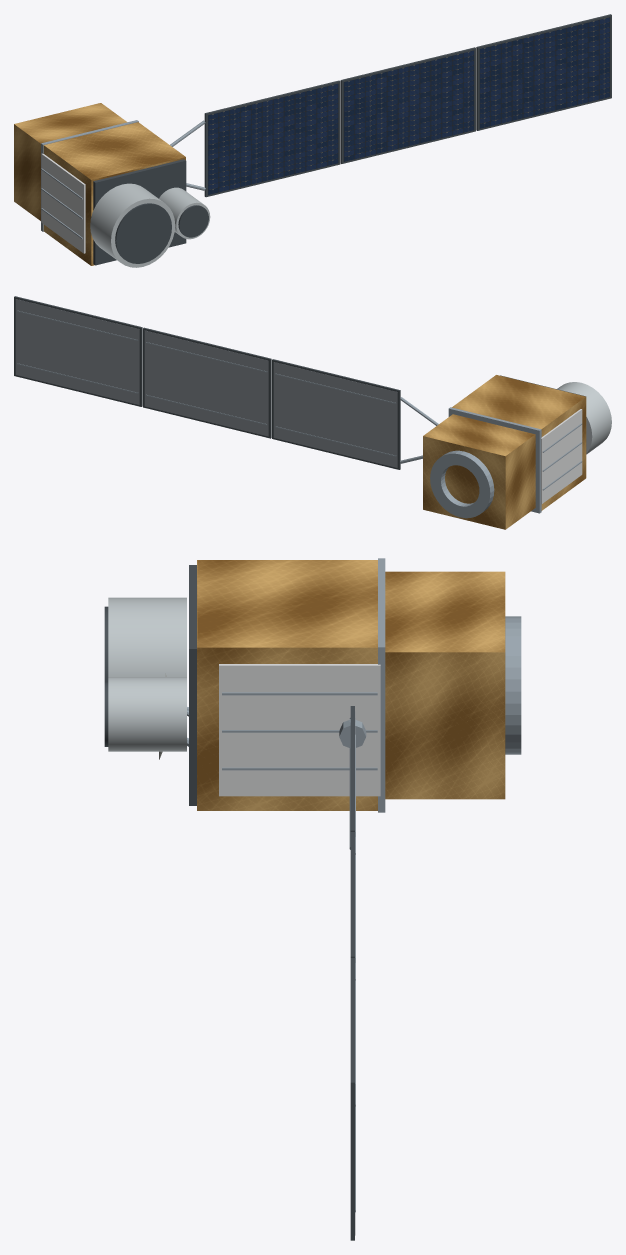
The model's file is insat-3d.glb.
3 renders of one model, top to bottom at view 1: azimuth 30°, elevation 25°; view 2: azimuth 150°, elevation 25°; view 3: azimuth 270°, elevation 25°, orthographic. The views are drawn at different scales.
Visible parts, largest first — view 1: Solar cell panel (×3), Payload module, Service module, Solar panel frame (×3), Optical instrument housing (×2), Telescope aperture (×2), Radiator face, Earth-facing deck, Module interface; view 2: Rear array substrate (×3), Service module, Payload module, Solar panel frame (×3), Radiator face, Launch adapter ring, Optical instrument housing, Module interface; view 3: Service module, Payload module, Radiator face, Optical instrument housing (×2), Launch adapter ring, Earth-facing deck, Module interface, Solar panel frame.
Part boxes in pixels (bbox=[...]): Solar cell panel (×3): bbox=[208, 17, 610, 195]; Payload module: bbox=[43, 122, 185, 265]; Service module: bbox=[14, 103, 127, 220]; Solar panel frame (×3): bbox=[204, 14, 611, 197]; Optical instrument housing (×2): bbox=[90, 183, 210, 267]; Telescope aperture (×2): bbox=[115, 203, 208, 263]; Radiator face: bbox=[41, 153, 85, 253]; Earth-facing deck: bbox=[93, 159, 186, 265]; Module interface: bbox=[41, 120, 138, 231]; Rear array substrate (×3): bbox=[15, 299, 397, 467]; Service module: bbox=[423, 414, 535, 529]; Payload module: bbox=[452, 375, 586, 510]; Solar panel frame (×3): bbox=[14, 296, 400, 469]; Radiator face: bbox=[541, 409, 582, 504]; Launch adapter ring: bbox=[430, 450, 494, 518]; Optical instrument housing: bbox=[557, 382, 611, 454]; Module interface: bbox=[448, 407, 541, 513]; Service module: bbox=[385, 571, 505, 799]; Payload module: bbox=[197, 560, 377, 810]; Radiator face: bbox=[219, 664, 380, 796]; Optical instrument housing (×2): bbox=[108, 597, 186, 751]; Launch adapter ring: bbox=[505, 616, 521, 754]; Earth-facing deck: bbox=[189, 565, 196, 805]; Module interface: bbox=[378, 558, 385, 812]; Solar panel frame: bbox=[350, 958, 354, 1240].
Size of the model in its own units: 9.55 by 1.41 by 3.21.
Materials: 9 (2 with a texture image).
